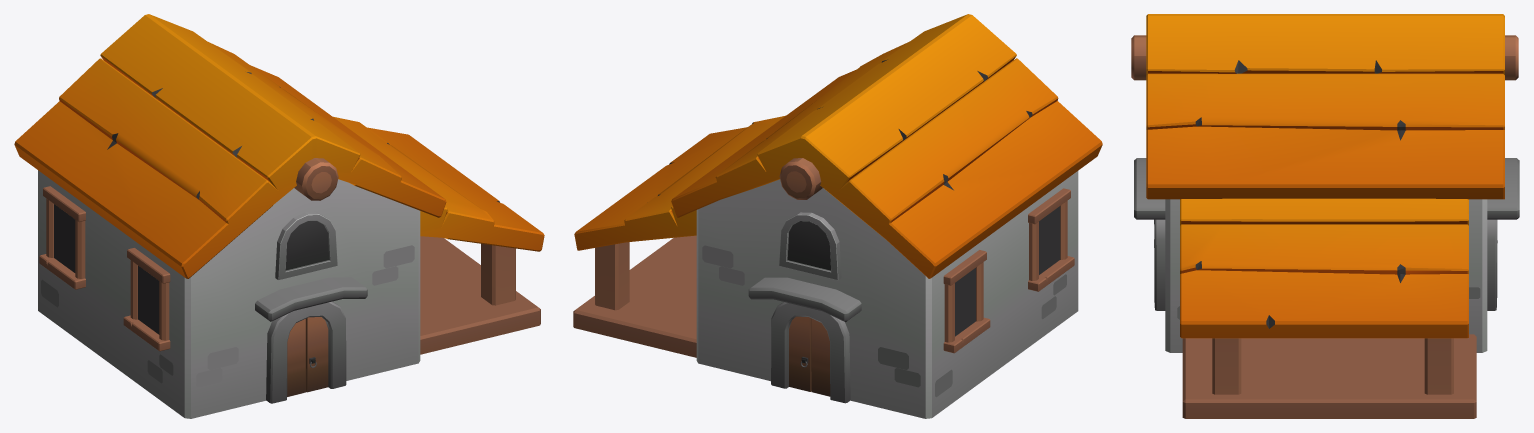
File: House_1.fbx
3 views of the same model, side by side, from view 1: azimuth 30°, elevation 25°; view 2: azimuth 150°, elevation 25°; view 3: azimuth 270°, elevation 25° (orthographic). The views are drawn at different scales.
Parts seen in each view (by area): view 1: House_1; view 2: House_1; view 3: House_1.
Part boxes in pixels (x1=…): House_1: x1=14, y1=14, x2=544, y2=418; House_1: x1=573, y1=14, x2=1102, y2=418; House_1: x1=1131, y1=14, x2=1519, y2=418.
Bounding box in the file's own units: 350 × 229 × 291.
